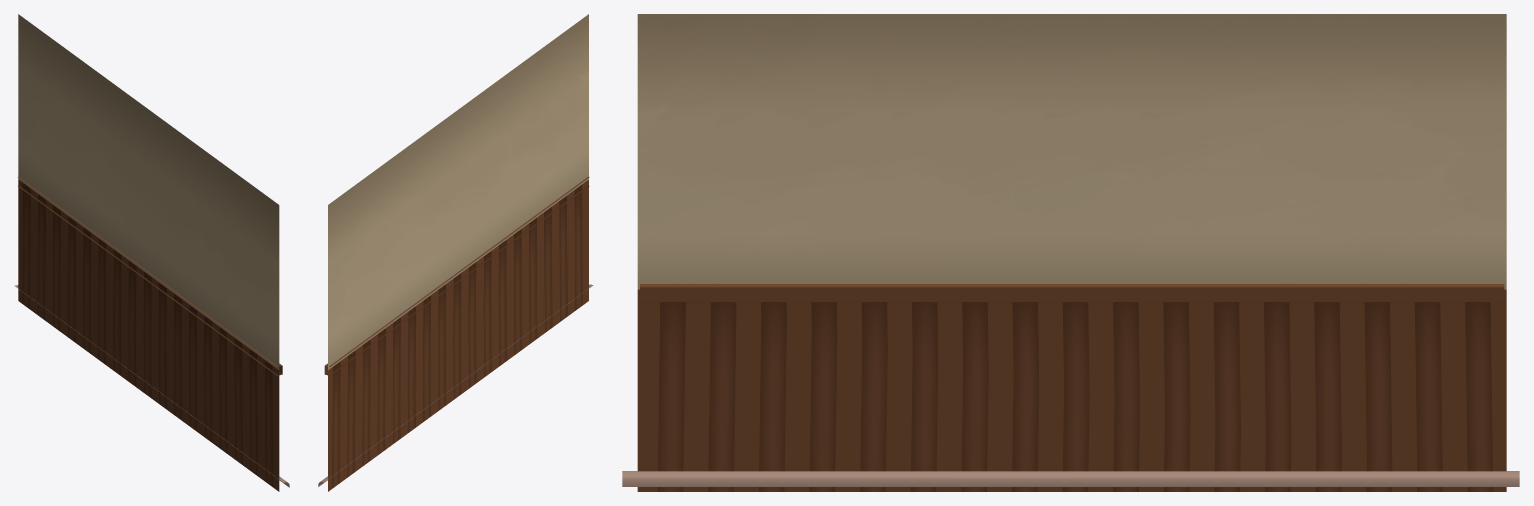
File: Wall_Mesh.fbx
3 views of the same model, side by side, from view 1: azimuth 30°, elevation 25°; view 2: azimuth 150°, elevation 25°; view 3: azimuth 270°, elevation 25° (orthographic). The views are drawn at different scales.
Visible parts, largest first — view 1: pPlane19, pCube5; view 2: pPlane19, pCube5; view 3: pPlane19, pCube5, pPlane20.
Boxes of the visible parts, x1,y1,x2,y2 form: pPlane19: [18, 14, 279, 491]; pCube5: [17, 177, 282, 375]; pPlane19: [328, 14, 588, 491]; pCube5: [324, 176, 589, 375]; pPlane19: [637, 14, 1506, 491]; pCube5: [640, 284, 1504, 302]; pPlane20: [622, 471, 1519, 486].
Size of the model in its own units: 1.32 by 47.77 by 81.26.
